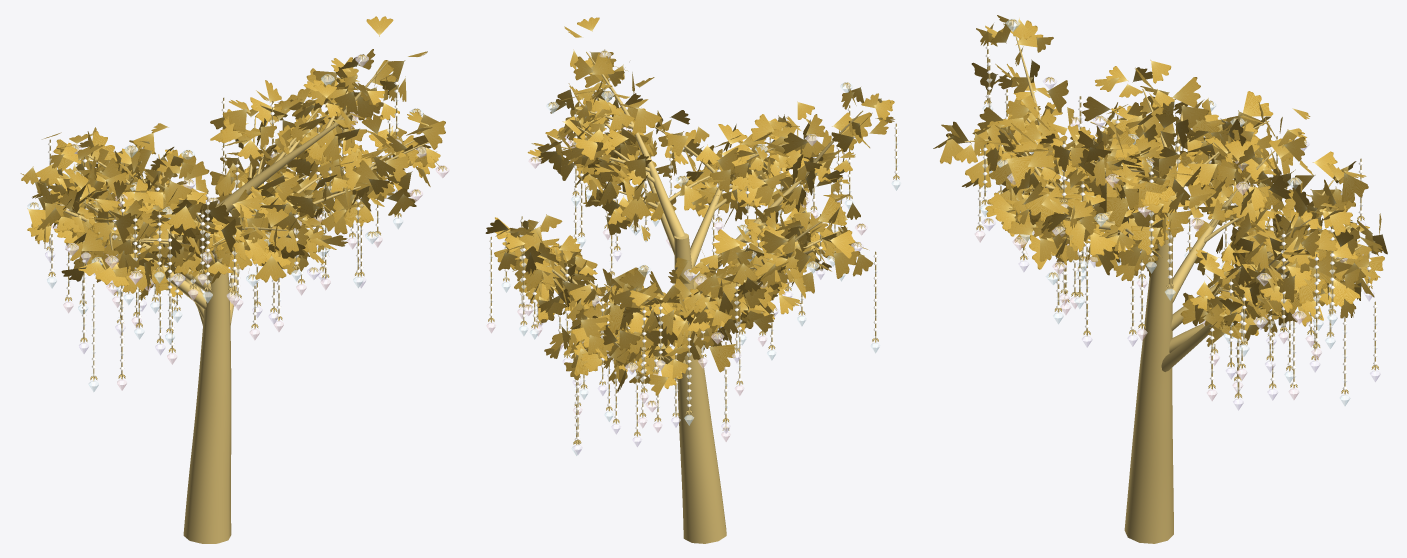
Rendered from houju_broadleaf.glb.
3 views of the same model, side by side, from view 1: azimuth 30°, elevation 25°; view 2: azimuth 150°, elevation 25°; view 3: azimuth 270°, elevation 25° (orthographic). The views are drawn at different scales.
Parts seen in each view (by area): view 1: foliage, broadleaf, gold_wire, pearl_batch, mizu_batch, sakura_batch, gold_fitting, fuji_batch, hari_batch; view 2: foliage, broadleaf, gold_wire, pearl_batch, mizu_batch, gold_fitting, sakura_batch, fuji_batch, hari_batch; view 3: foliage, broadleaf, gold_wire, pearl_batch, sakura_batch, gold_fitting, mizu_batch, fuji_batch, hari_batch.
Part boxes in pixels (x1,y1,x2,y2): foliage: [20, 16, 445, 300]; broadleaf: [58, 60, 429, 543]; gold_wire: [49, 78, 398, 378]; pearl_batch: [47, 81, 398, 370]; mizu_batch: [27, 74, 423, 391]; sakura_batch: [51, 106, 449, 390]; gold_fitting: [30, 54, 446, 380]; fuji_batch: [45, 54, 426, 355]; hari_batch: [47, 97, 399, 376]; foliage: [485, 17, 894, 395]; broadleaf: [519, 51, 862, 543]; gold_wire: [490, 49, 896, 443]; pearl_batch: [489, 53, 898, 440]; mizu_batch: [501, 82, 900, 455]; gold_fitting: [488, 50, 899, 444]; sakura_batch: [486, 111, 867, 441]; fuji_batch: [535, 50, 863, 454]; hari_batch: [489, 89, 898, 434]; foliage: [933, 15, 1387, 346]; broadleaf: [964, 36, 1361, 543]; gold_wire: [979, 43, 1375, 397]; pearl_batch: [977, 46, 1377, 390]; sakura_batch: [974, 116, 1321, 400]; gold_fitting: [976, 19, 1378, 398]; mizu_batch: [979, 18, 1350, 405]; fuji_batch: [981, 76, 1380, 410]; hari_batch: [977, 62, 1377, 391].
Bounding box in the file's own units: 5.26 × 6.77 × 5.57.
Materials: 8 (1 with a texture image).
